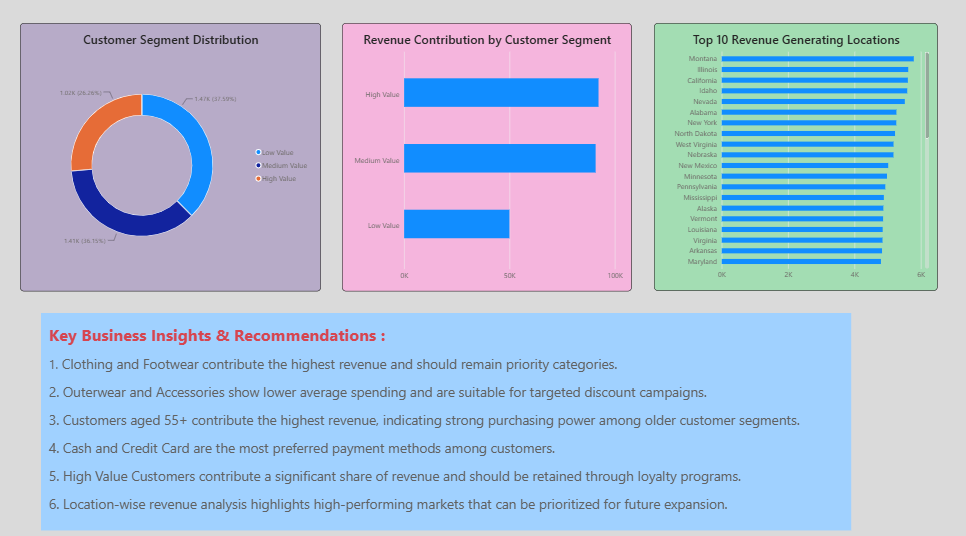

Layout of this report page (visuals, bound fields, positions):
{"tool":"powerbi","page":{"name":"Page 3","canvas":[1920,1080],"ordinal":2},"visuals":[{"type":"donutChart","title":"Customer Segment Distribution","fields":{"Category":["shopping_table (2).Customer Segment"],"Y":["CountNonNull(shopping_table (2).Customer_ID)"]},"box":[53,63.9,590.6,526.8],"z":0},{"type":"clusteredBarChart","title":"Revenue Contribution by Customer Segment","fields":{"Category":["shopping_table (2).Customer Segment"],"Y":["Sum(shopping_table (2).Purchase_Amount_USD)"]},"box":[685.7,63.9,568.8,526.8],"z":1000},{"type":"barChart","title":"Top 10 Revenue Generating Locations","fields":{"Category":["shopping_table (2).Location"],"Y":["Sum(shopping_table (2).Purchase_Amount_USD)"]},"box":[1298.9,63.9,557.2,526.1],"z":2000},{"type":"textbox","box":[95,633.9,1591.2,427.5],"z":3000}]}

Visuals, with their boxes in screenshot pixels (x1, y1, x2, y2), scaled from the page's 1920x1080 canvas onto the 966x536 screenshot:
"Customer Segment Distribution" donutChart: (x1=27, y1=32, x2=324, y2=293)
"Revenue Contribution by Customer Segment" clusteredBarChart: (x1=345, y1=32, x2=631, y2=293)
"Top 10 Revenue Generating Locations" barChart: (x1=654, y1=32, x2=934, y2=293)
textbox: (x1=48, y1=315, x2=848, y2=527)
